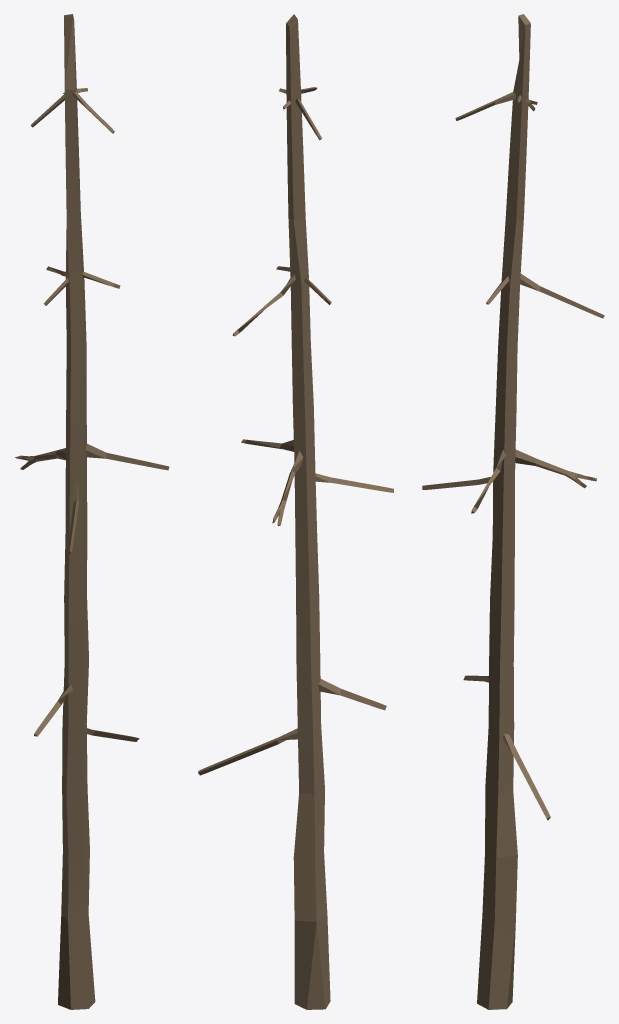
File: pine_bare_1.FBX
3 views of the same model, side by side, from view 1: azimuth 30°, elevation 25°; view 2: azimuth 150°, elevation 25°; view 3: azimuth 270°, elevation 25° (orthographic).
Parts seen in each view (by area): view 1: pine_bare_1; view 2: pine_bare_1; view 3: pine_bare_1.
Boxes of the visible parts, x1=… form: pine_bare_1: x1=15, y1=14, x2=169, y2=1009; pine_bare_1: x1=198, y1=14, x2=393, y2=1009; pine_bare_1: x1=422, y1=14, x2=604, y2=1009.
Size of the model in its own units: 1.16 by 7.47 by 1.24.
